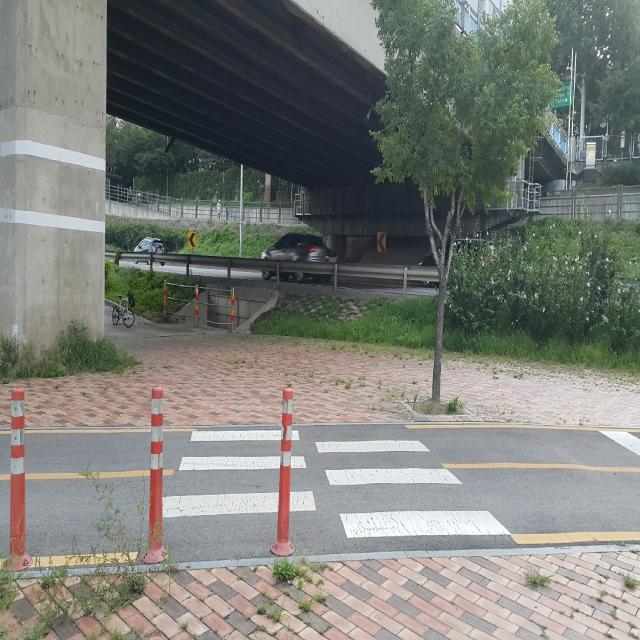횡단보도: (163, 431, 512, 540)
